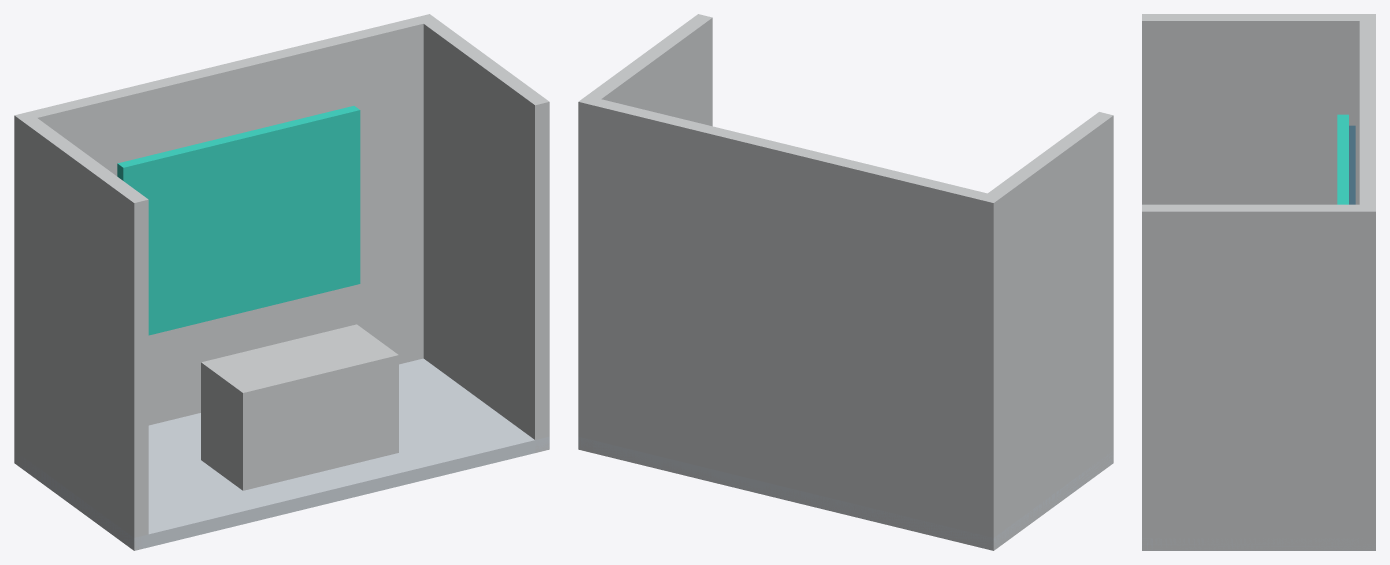
3 views of the same model, side by side, from view 1: azimuth 30°, elevation 25°; view 2: azimuth 150°, elevation 25°; view 3: azimuth 270°, elevation 25° (orthographic). The views are drawn at different scales.
Visible parts, largest first — view 1: Exhibition Booth Concept; view 2: Exhibition Booth Concept; view 3: Exhibition Booth Concept.
Part boxes in pixels (left/top/right/bottom): Exhibition Booth Concept: left=14, top=14, right=549, bottom=550; Exhibition Booth Concept: left=578, top=14, right=1113, bottom=550; Exhibition Booth Concept: left=1142, top=14, right=1375, bottom=550.
Bounding box in the file's own units: 4 × 3.2 × 2.
